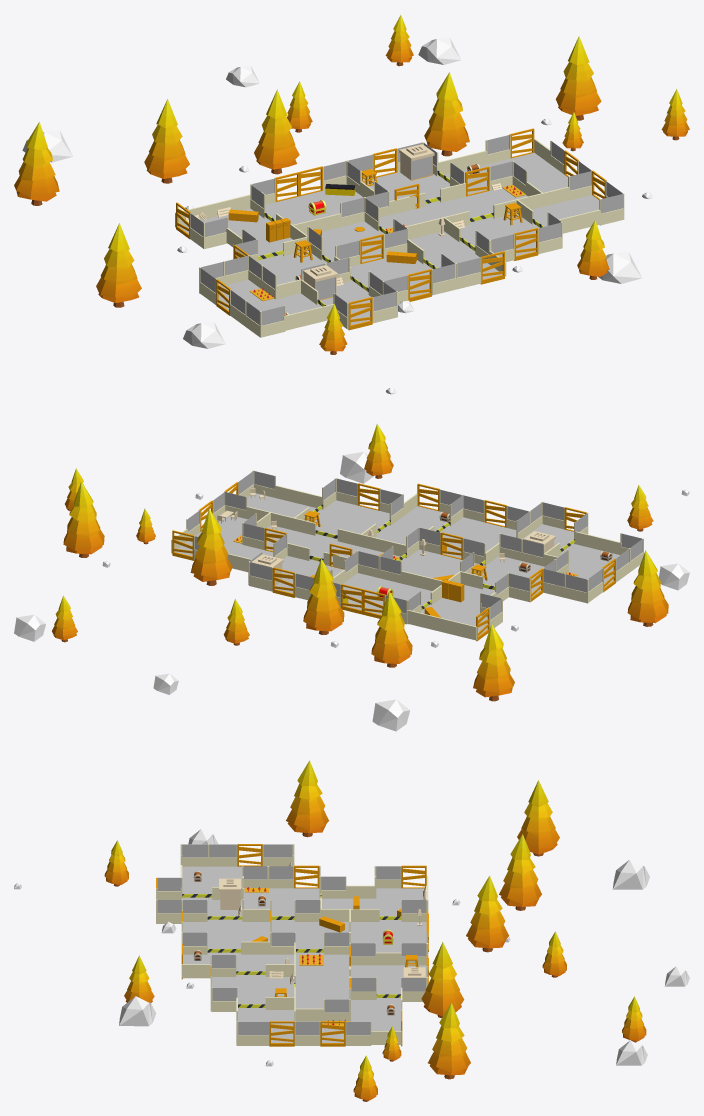
The model's file is map4.fbx.
3 renders of one model, top to bottom at view 1: azimuth 30°, elevation 25°; view 2: azimuth 150°, elevation 25°; view 3: azimuth 270°, elevation 25°, orthographic. The views are drawn at different scales.
Visible parts, largest first — view 1: Room_5, Room_8, Room_2, Room_6, room_1, Room_4, Room_3, Room_11, room_7, room_10, room_9, Room_12 (+21 smaller); view 2: Room_5, Room_2, Room_6, Room_3, Room_8, Room_4, room_1, room_7, Room_11, room_9, room_10, Tree3 (+19 smaller); view 3: Room_6, Room_5, Room_2, Room_4, Room_8, Room_3, room_7, Room_11, room_1, room_10, Room_12, Tree17 (+20 smaller).
Boxes of the visible parts, left/top/right/bottom form: Room_5: left=378, top=161, right=543, bottom=239; Room_8: left=438, top=134, right=591, bottom=206; Room_2: left=175, top=194, right=307, bottom=262; Room_6: left=444, top=199, right=562, bottom=263; room_1: left=250, top=160, right=389, bottom=238; Room_4: left=307, top=197, right=408, bottom=266; Room_3: left=233, top=239, right=351, bottom=299; Room_11: left=350, top=251, right=457, bottom=303; room_7: left=347, top=142, right=465, bottom=215; room_10: left=407, top=218, right=506, bottom=289; room_9: left=532, top=181, right=624, bottom=233; Room_12: left=301, top=277, right=397, bottom=329; Room_5: left=242, top=512, right=405, bottom=565; Room_2: left=407, top=571, right=508, bottom=640; Room_6: left=294, top=478, right=403, bottom=540; Room_3: left=471, top=533, right=568, bottom=602; Room_8: left=171, top=491, right=273, bottom=572; Room_4: left=380, top=527, right=485, bottom=580; room_1: left=329, top=550, right=442, bottom=624; room_7: left=248, top=533, right=347, bottom=600; Room_11: left=442, top=495, right=530, bottom=558; room_9: left=238, top=470, right=321, bottom=517; room_10: left=368, top=489, right=463, bottom=544; Tree3: left=63, top=481, right=104, bottom=557; Room_6: left=210, top=955, right=294, bottom=1011; Room_5: left=294, top=942, right=350, bottom=1021; Room_2: left=320, top=866, right=428, bottom=921; Room_4: left=270, top=899, right=349, bottom=954; Room_8: left=294, top=987, right=402, bottom=1045; Room_3: left=242, top=866, right=320, bottom=921; room_7: left=349, top=943, right=428, bottom=1001; Room_11: left=181, top=899, right=270, bottom=954; room_1: left=349, top=899, right=428, bottom=965; room_10: left=181, top=932, right=294, bottom=978; Room_12: left=156, top=877, right=242, bottom=923; Tree17: left=499, top=834, right=541, bottom=910.
Size of what is drawn, in the model's own units: 83.7 by 11.39 by 85.38.
